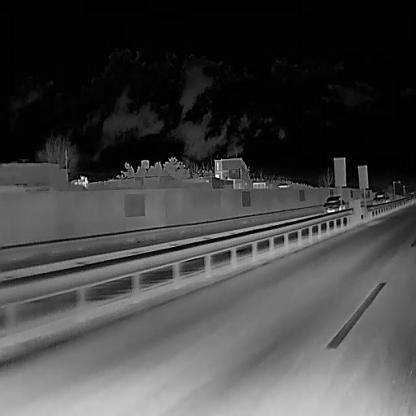car: (322, 194, 345, 213), (371, 190, 389, 206)
